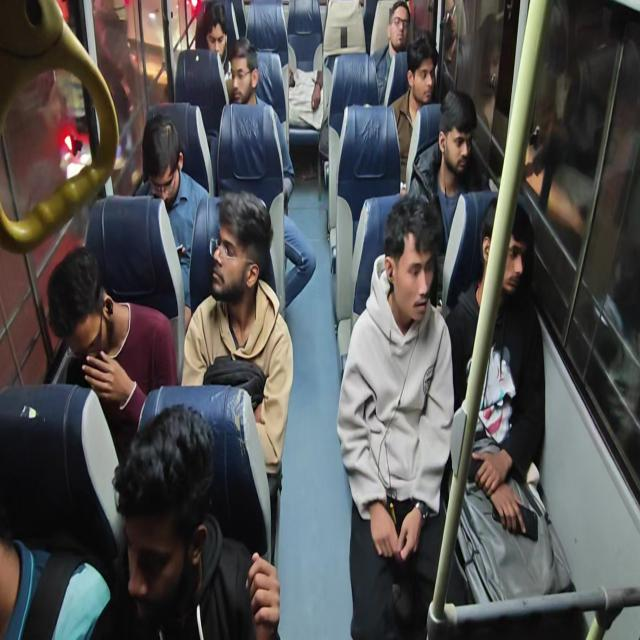person: (86, 396, 318, 640), (38, 212, 116, 404), (479, 148, 568, 292), (205, 184, 275, 316), (374, 206, 433, 322), (0, 388, 23, 640), (154, 76, 190, 230), (443, 57, 491, 166), (228, 26, 258, 93), (185, 0, 226, 43), (388, 8, 417, 63), (421, 41, 437, 89)
